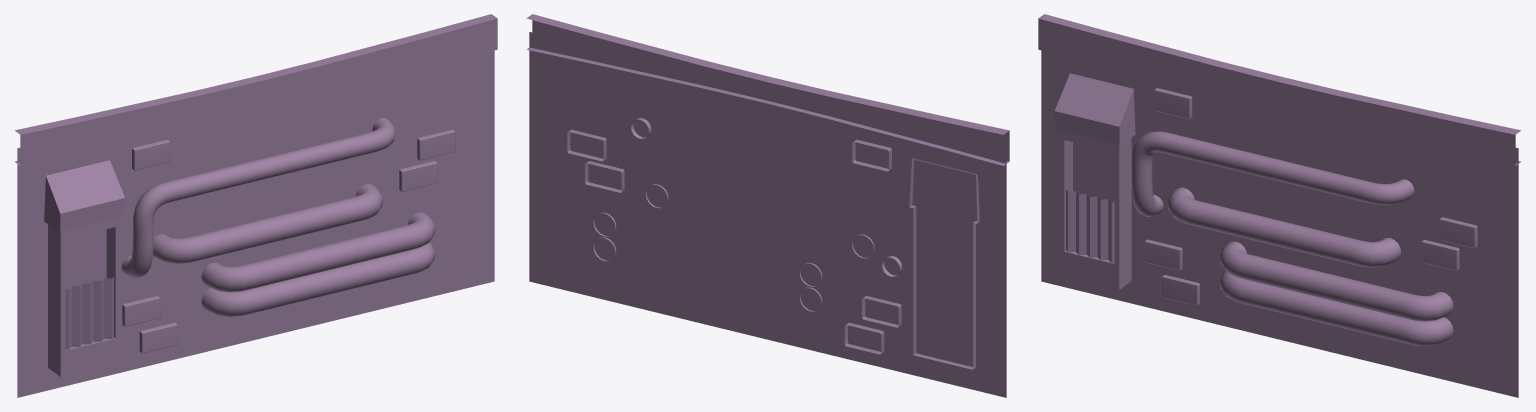
Rendered from Extended_Wallpipes.fbx.
3 views of the same model, side by side, from view 1: azimuth 30°, elevation 25°; view 2: azimuth 150°, elevation 25°; view 3: azimuth 330°, elevation 25° (orthographic).
Visible parts, largest first — view 1: Extended_Wallpipes; view 2: Extended_Wallpipes; view 3: Extended_Wallpipes.
Part boxes in pixels (box(x1,y1,x2,y2)): Extended_Wallpipes: box(14, 14, 497, 397); Extended_Wallpipes: box(526, 14, 1009, 397); Extended_Wallpipes: box(1038, 14, 1521, 397).
Bounding box in the file's own units: 8 × 4.25 × 0.6117.
